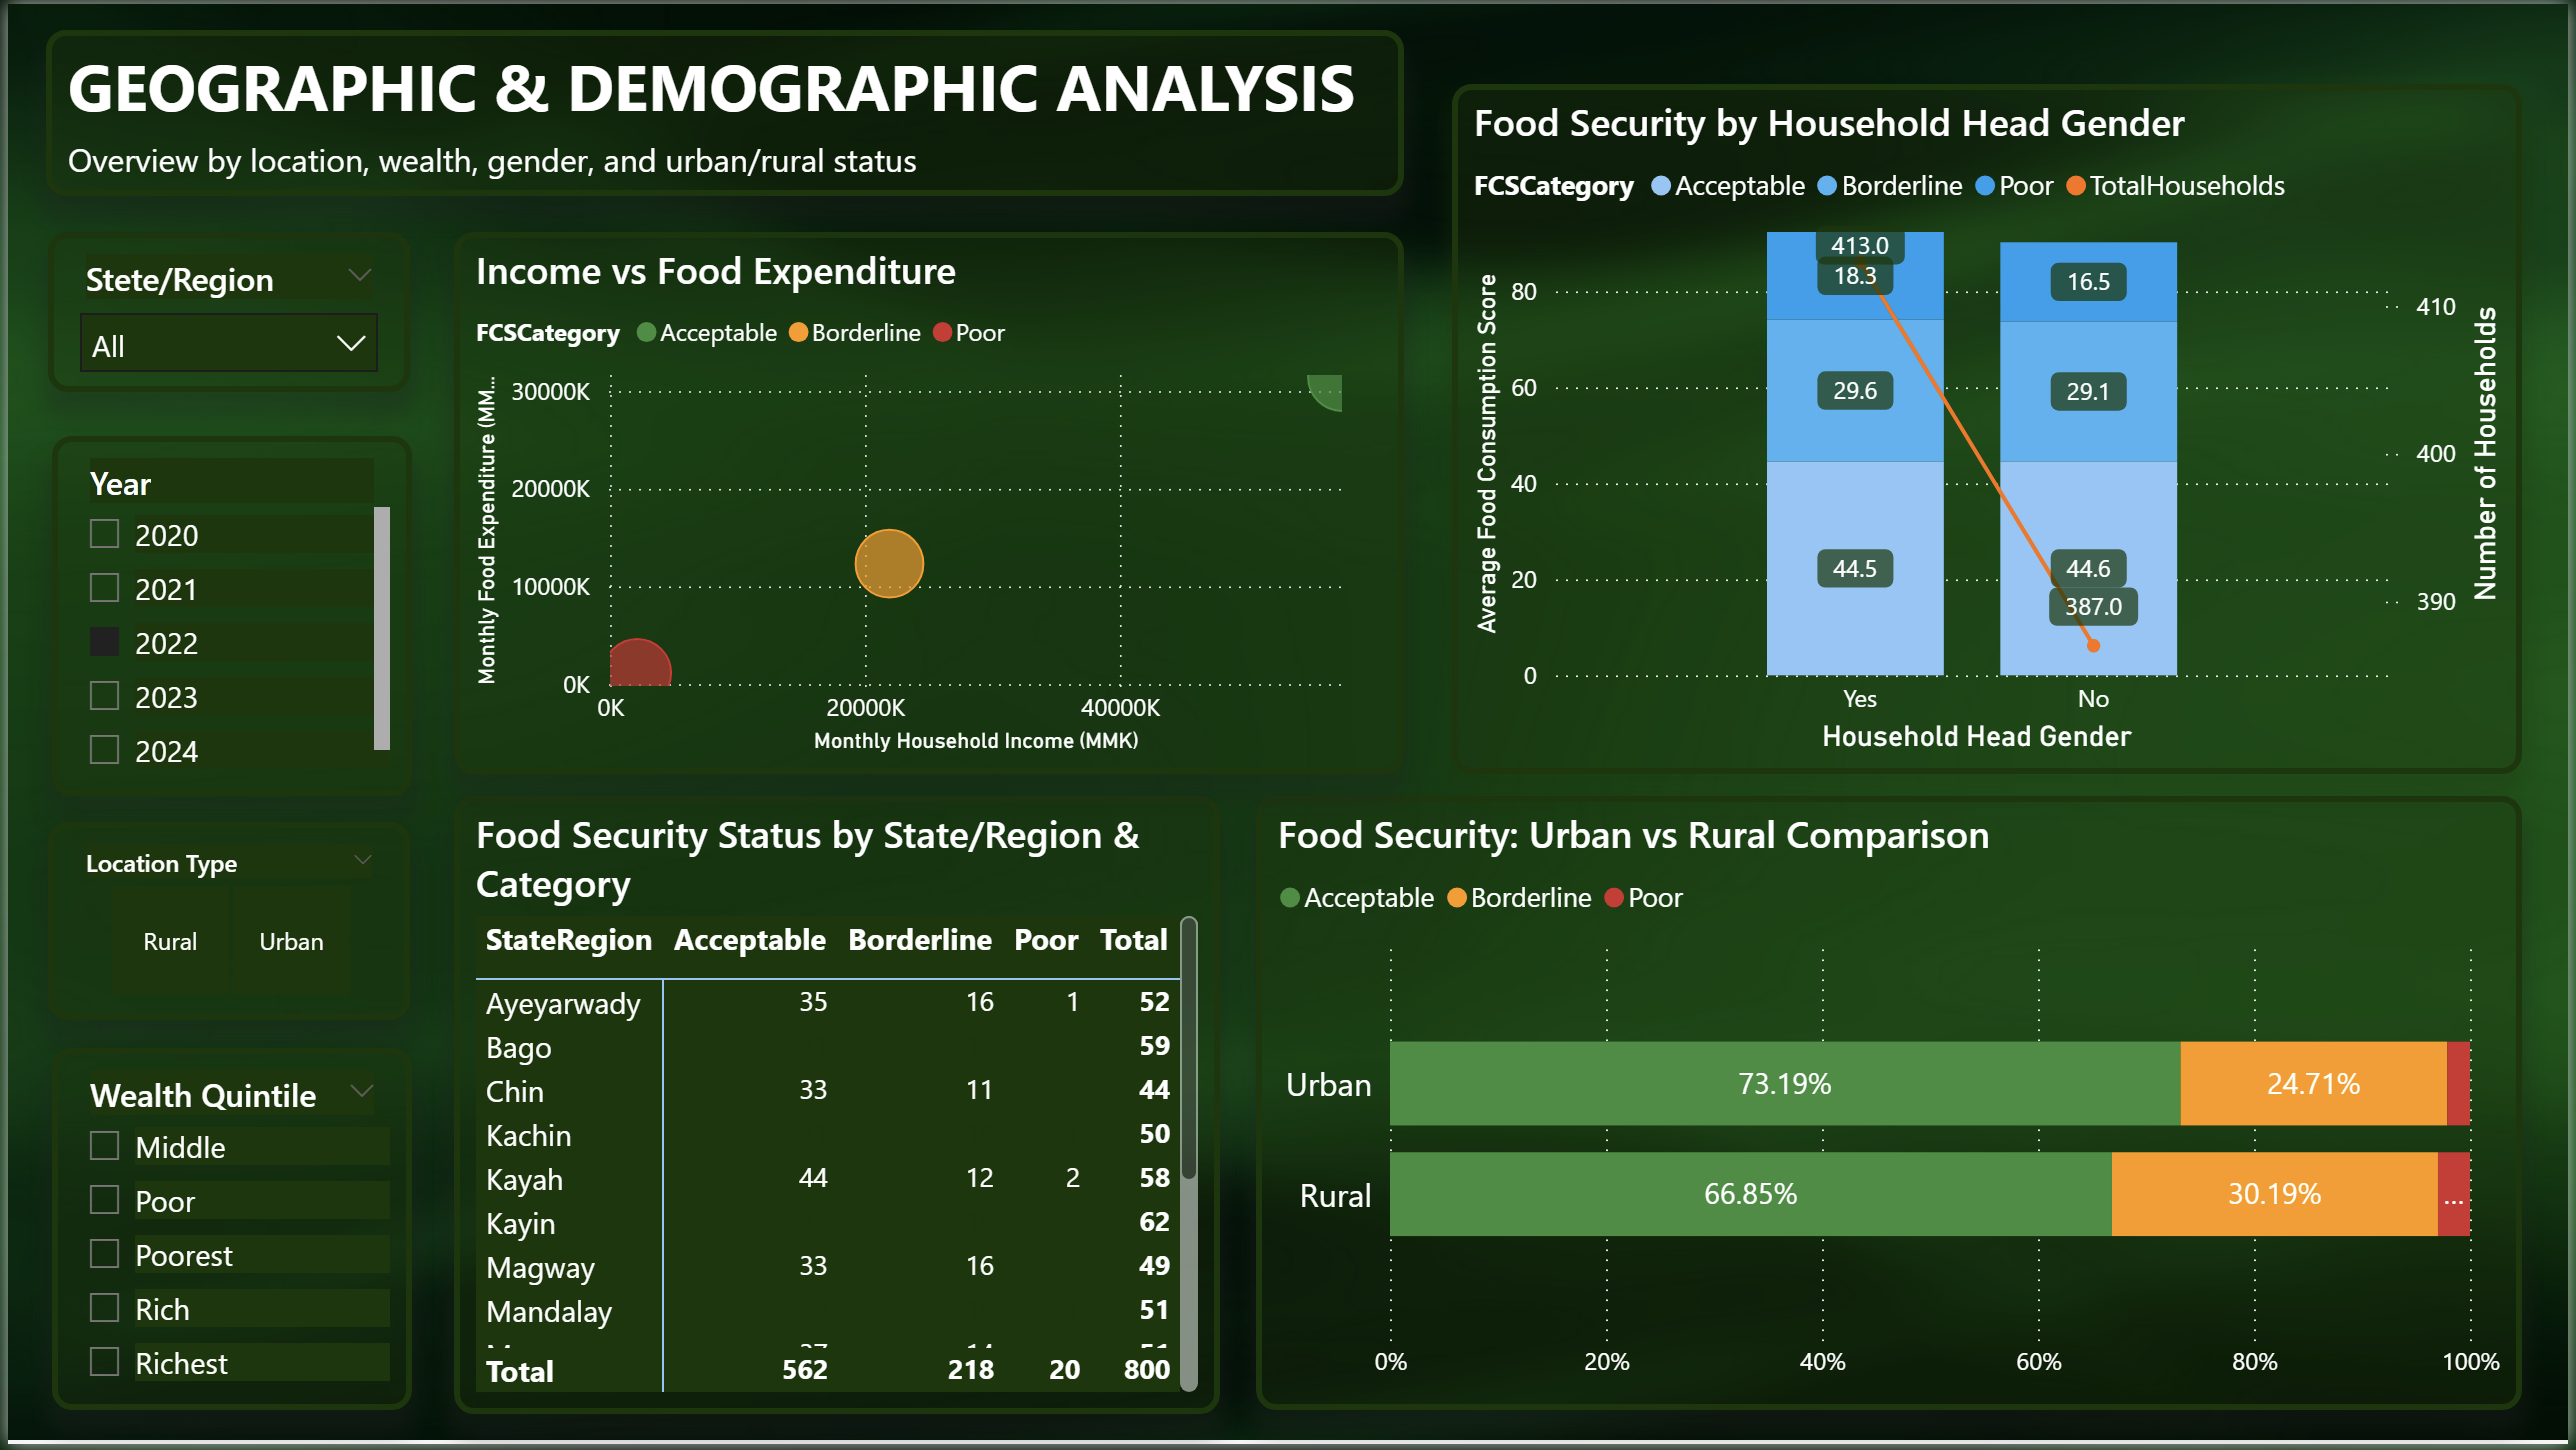

This screenshot's page, from the dashboard's own definition file:
{"tool":"powerbi","page":{"name":"GEOGRAPHIC","canvas":[1280,720],"ordinal":1},"visuals":[{"type":"slicer","fields":{"Values":["dim_date.Year"]},"box":[21.5,216.3,180.9,179.6],"z":0},{"type":"slicer","fields":{"Values":["dim_geography.StateRegion"]},"box":[20.2,113.8,180.9,79.7],"z":1000},{"type":"slicer","fields":{"Values":["dim_geography.UrbanRural"]},"box":[20.2,408.5,180.9,99.9],"z":2000},{"type":"slicer","fields":{"Values":["dim_hh.WealthQuintile"]},"box":[21.5,522.4,180.9,180.9],"z":3000},{"type":"pivotTable","title":"Food Security Status by State/Region & Category","fields":{"Rows":["dim_geography.StateRegion"],"Columns":["fact_foodsecurity.FCSCategory"],"Values":["fact_foodsecurity.TotalHouseholds"]},"box":[222.6,395.9,383.2,308.6],"z":4000},{"type":"hundredPercentStackedBarChart","title":"Food Security: Urban vs Rural Comparison","fields":{"Category":["dim_geography.UrbanRural"],"Y":["fact_foodsecurity.TotalHouseholds"],"Series":["fact_foodsecurity.FCSCategory"]},"box":[623.6,395.9,633.7,307.4],"z":5000},{"type":"lineStackedColumnComboChart","title":"Food Security by Household Head Gender","fields":{"Category":["dim_hh.FemaleHeaded"],"Series":["fact_foodsecurity.FCSCategory"],"Y":["fact_foodsecurity.AvgFCS"],"Y2":["fact_foodsecurity.TotalHouseholds"]},"box":[722.2,40.5,535,344],"z":6000},{"type":"scatterChart","title":"Income vs Food Expenditure","fields":{"X":["Sum(fact_foodsecurity.MonthlyIncome)"],"Y":["Sum(fact_foodsecurity.MonthlyFoodExpenditure)"],"Series":["fact_foodsecurity.FCSCategory"],"Size":["Sum(dim_hh.HHSize)"]},"box":[222.6,113.8,475.6,270.7],"z":7000},{"type":"textbox","title":"GEOGRAPHIC & DEMOGRAPHIC ANALYSIS","box":[19,12.6,679.2,83.5],"z":8000}]}

Visuals, with their boxes in screenshot pixels (x1, y1, x2, y2), scaled from the page's 1280x720 canvas onto the 2576x1450 screenshot:
slicer - dim_date.Year: left=43, top=436, right=407, bottom=797
slicer - dim_geography.StateRegion: left=41, top=229, right=405, bottom=390
slicer - dim_geography.UrbanRural: left=41, top=823, right=405, bottom=1024
slicer - dim_hh.WealthQuintile: left=43, top=1052, right=407, bottom=1416
"Food Security Status by State/Region & Category" pivotTable: left=448, top=797, right=1219, bottom=1419
"Food Security: Urban vs Rural Comparison" hundredPercentStackedBarChart: left=1255, top=797, right=2530, bottom=1416
"Food Security by Household Head Gender" lineStackedColumnComboChart: left=1453, top=82, right=2530, bottom=774
"Income vs Food Expenditure" scatterChart: left=448, top=229, right=1405, bottom=774
"GEOGRAPHIC & DEMOGRAPHIC ANALYSIS" textbox: left=38, top=25, right=1405, bottom=194
